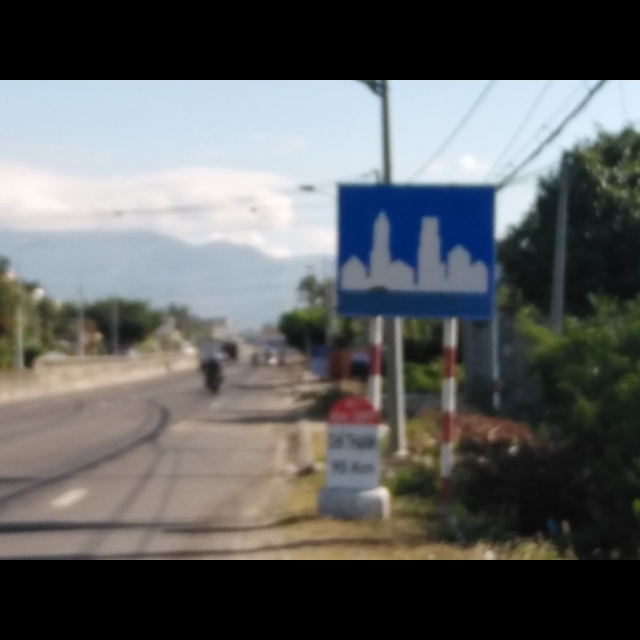Khu đông dân cư: (329, 176, 496, 324)
